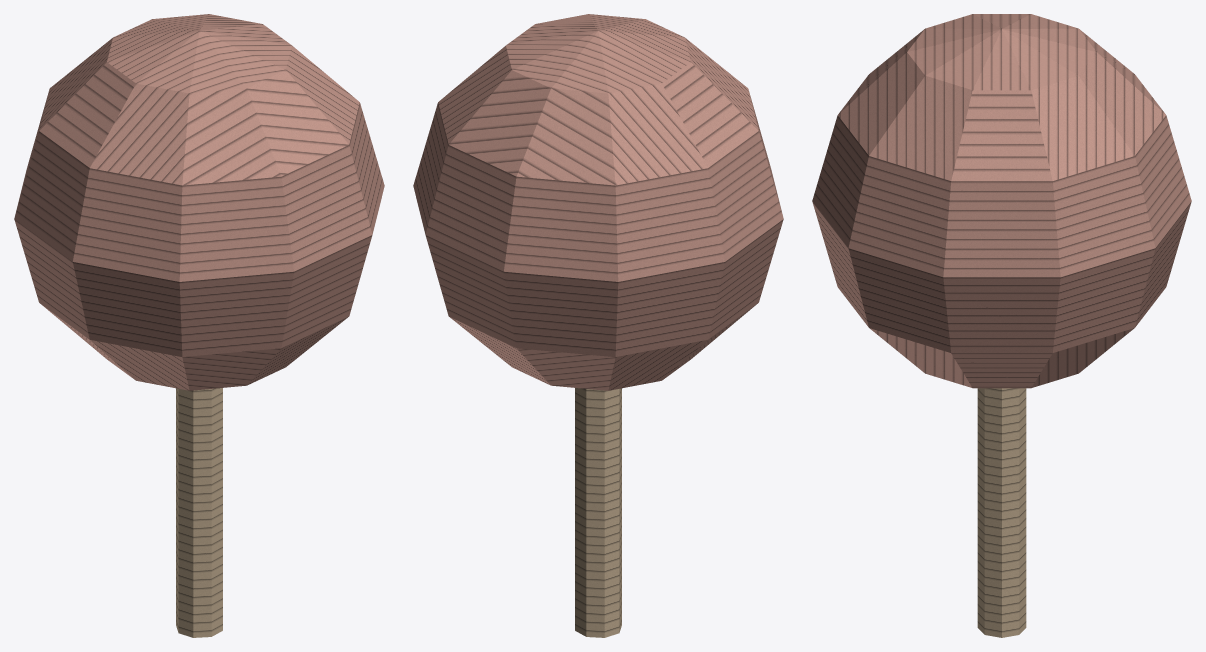
File: tree_american_sycamore.glb
The picture shows the model from 3 angles, left to right: view 1: azimuth 30°, elevation 25°; view 2: azimuth 150°, elevation 25°; view 3: azimuth 270°, elevation 25°; orthographic projection.
Parts seen in each view (by area): view 1: tree_american_sycamore-col; view 2: tree_american_sycamore-col; view 3: tree_american_sycamore-col.
Part boxes in pixels (x1,y1,x2,y2): tree_american_sycamore-col: (14, 14, 384, 637); tree_american_sycamore-col: (413, 14, 783, 637); tree_american_sycamore-col: (812, 14, 1191, 637).
Size of the model in its own units: 4.76 by 8.7 by 5.
Materials: 2 (2 with a texture image).
